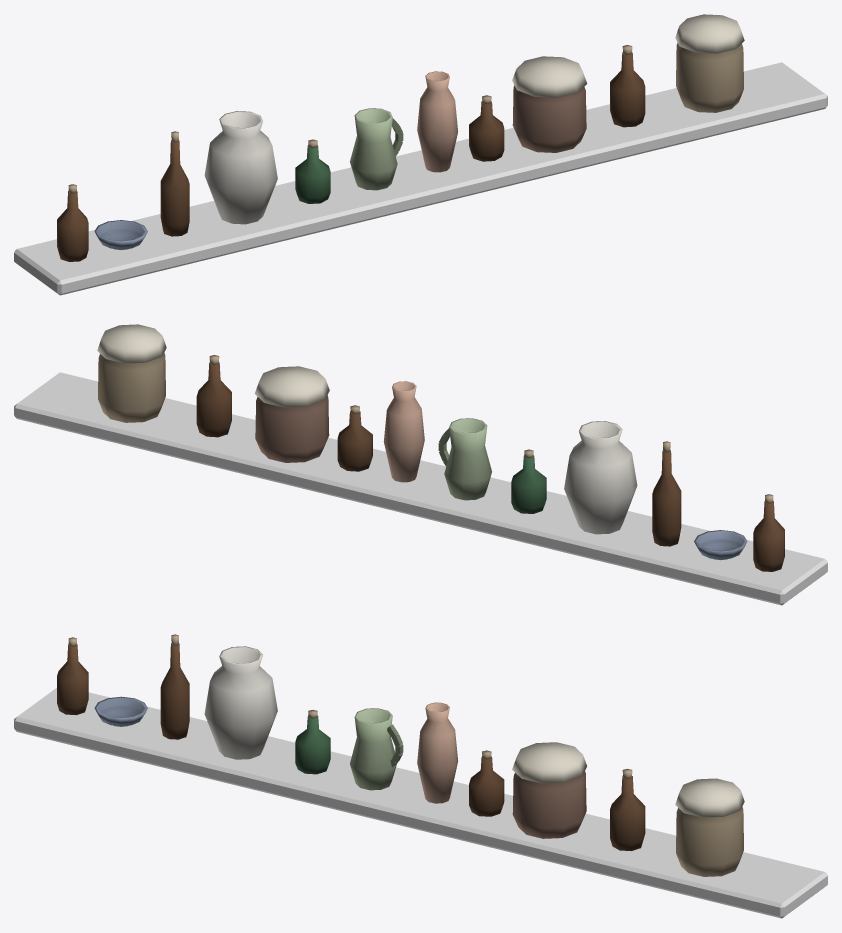
The model's file is lab_shelf.glb.
The picture shows the model from 3 angles, top to bottom: view 1: azimuth 30°, elevation 25°; view 2: azimuth 150°, elevation 25°; view 3: azimuth 330°, elevation 25°; orthographic projection.
Visible parts, largest first — view 1: bottle; view 2: bottle; view 3: bottle.
Boxes of the visible parts, x1,y1,x2,y2 form: bottle: (14, 14, 827, 295); bottle: (14, 324, 827, 605); bottle: (14, 634, 827, 918).
Size of the model in its own units: 2.68 by 0.3762 by 0.28.
